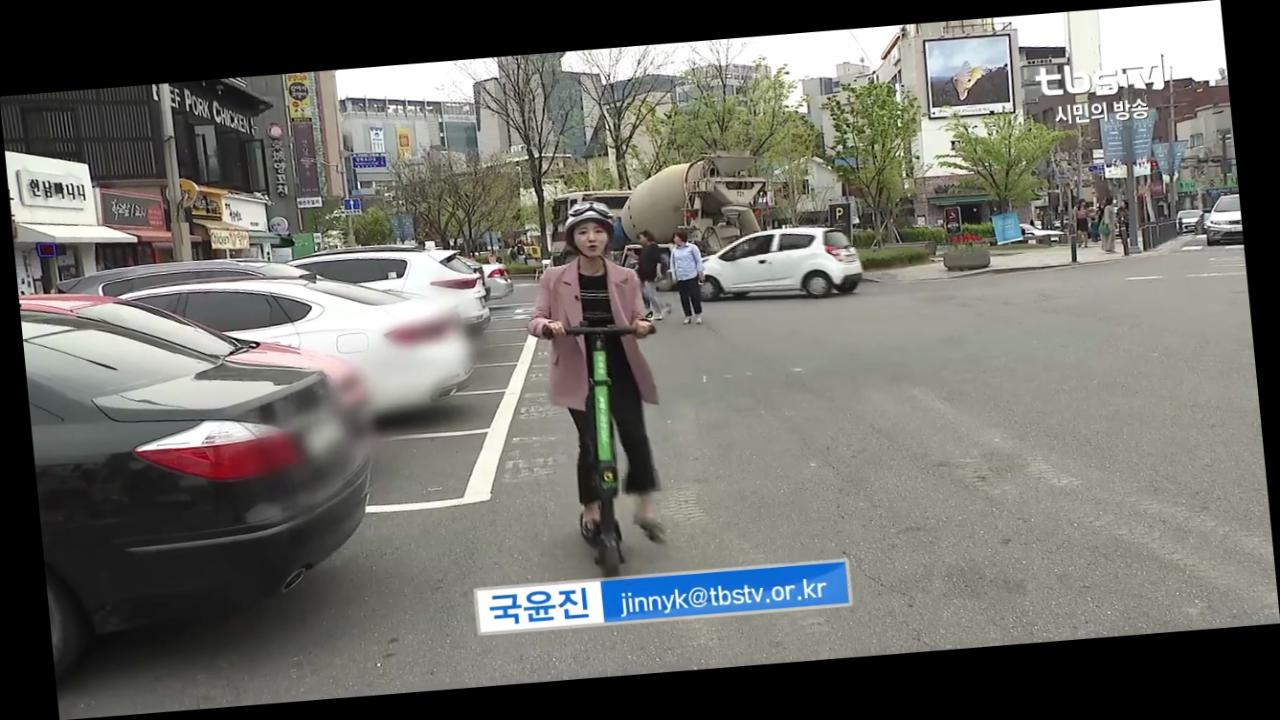helmet: (507, 194, 706, 582)
